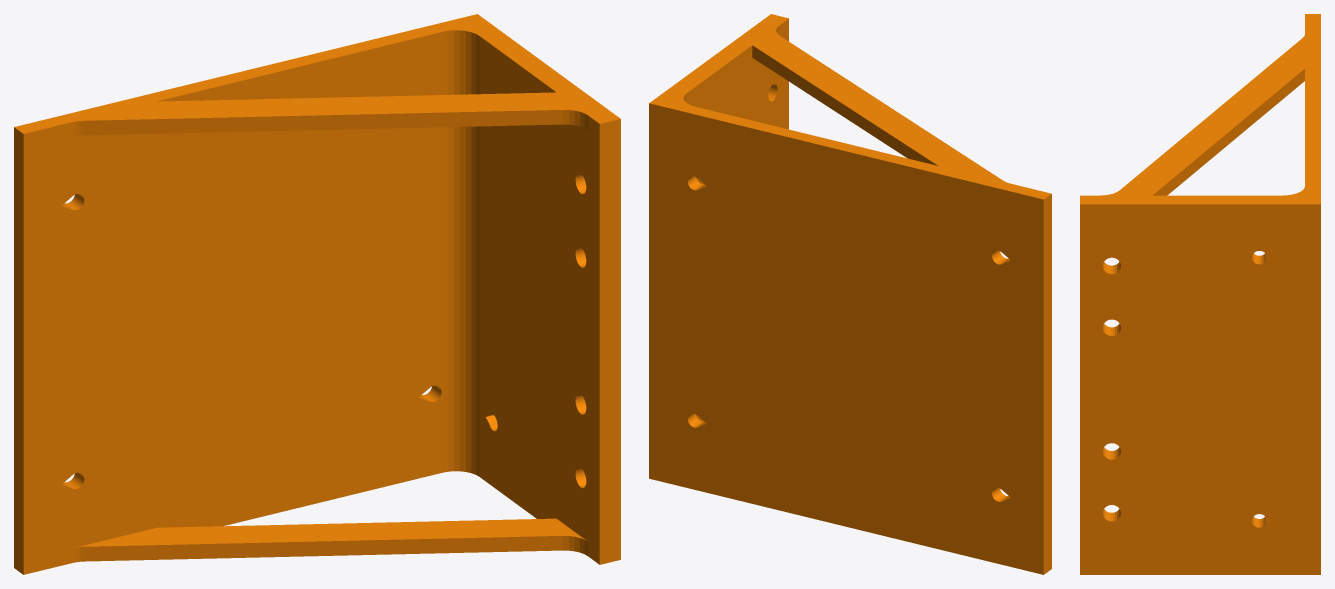
File: cpsl_ugv_wide_camera_and_radar_mount.glb
3 renders of one model, left to right at view 1: azimuth 30°, elevation 25°; view 2: azimuth 150°, elevation 25°; view 3: azimuth 270°, elevation 25°, orthographic. The views are drawn at different scales.
Bounding box in the file's own units: 99 × 90 × 53.
